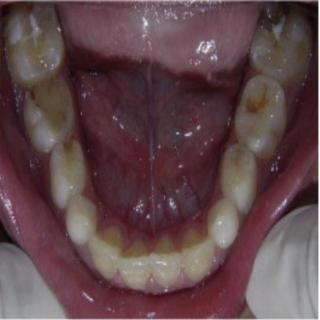LL1BC_healthy: (219, 143, 256, 213)
LL1M_sdecay: (251, 4, 313, 89)
LL2BC_mdecay: (234, 74, 286, 158)
LLCI_healthy: (151, 235, 181, 285)
LLC_healthy: (207, 197, 240, 250)
LLLI_healthy: (182, 229, 214, 284)
LR1BC_mdecay: (49, 139, 86, 208)
LR1M_sdecay: (4, 3, 65, 86)
LR2BC_mdecay: (22, 77, 76, 152)
LRCI_healthy: (119, 237, 150, 289)
LRC_healthy: (65, 193, 97, 245)
LRLI_healthy: (89, 223, 122, 281)
